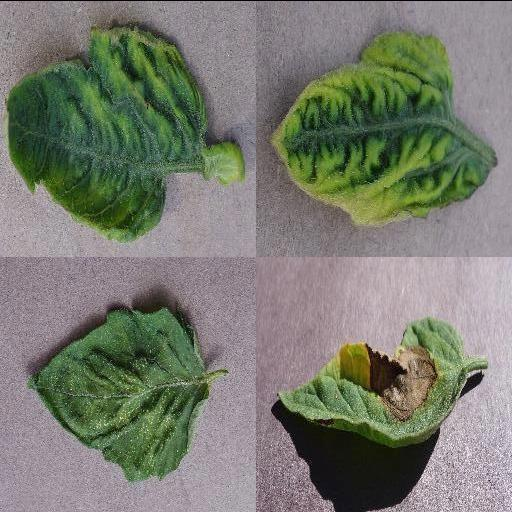Early Blight: (271, 316, 475, 445)
Spider Mites: (26, 304, 208, 479)
Yellow Leaf Curl Virus: (3, 22, 209, 242), (269, 30, 497, 228)
